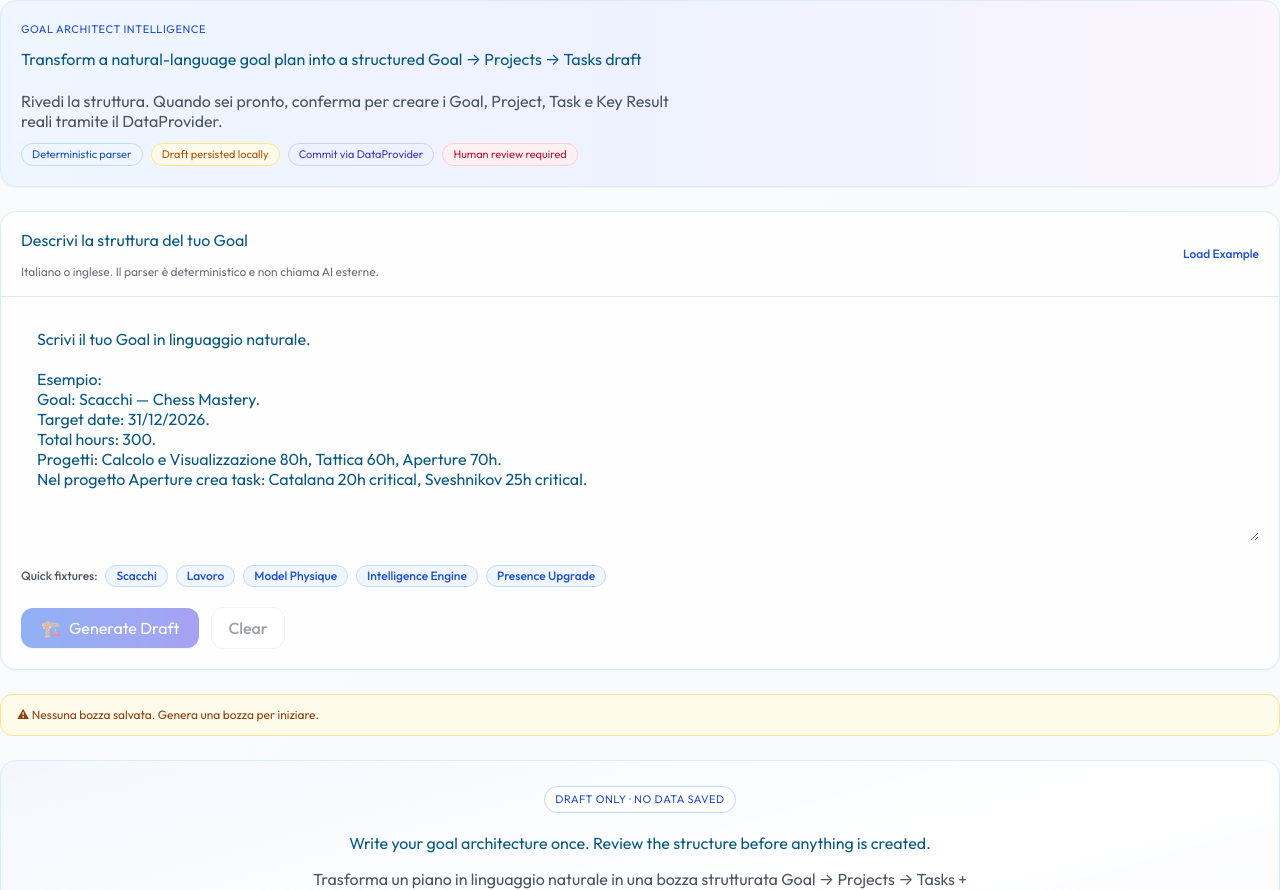
Test: GoalArchitectView — smoke › does not crash on random text
Replace the text in the text box with test id "goal-architect-textarea" with "asdf qwer zxcv 1234 !!! ???". click: (640, 429)
box: 21,317 -> 1259,541
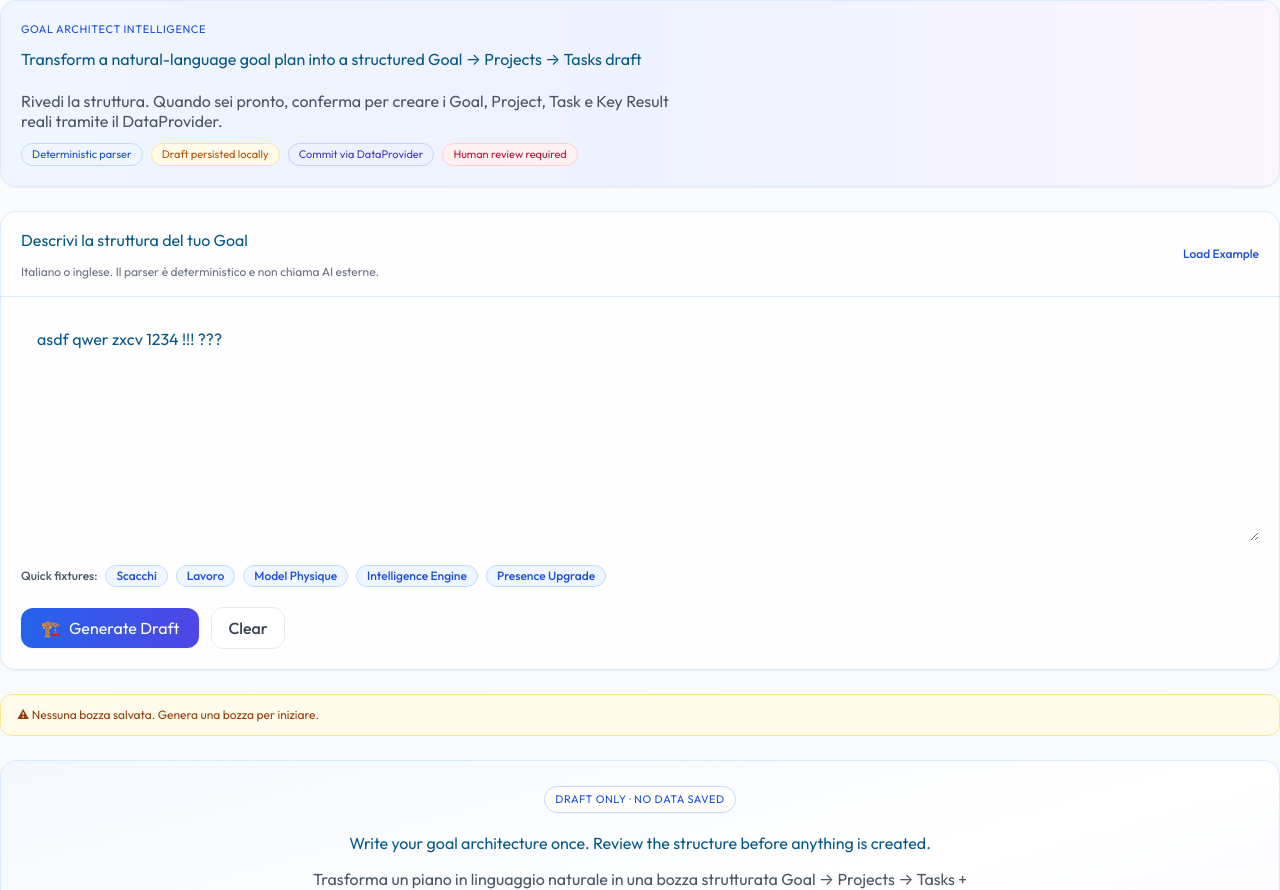
Click the button with test id "goal-architect-generate". click: (110, 628)
box: 21,608 -> 199,648
(page scrolled)
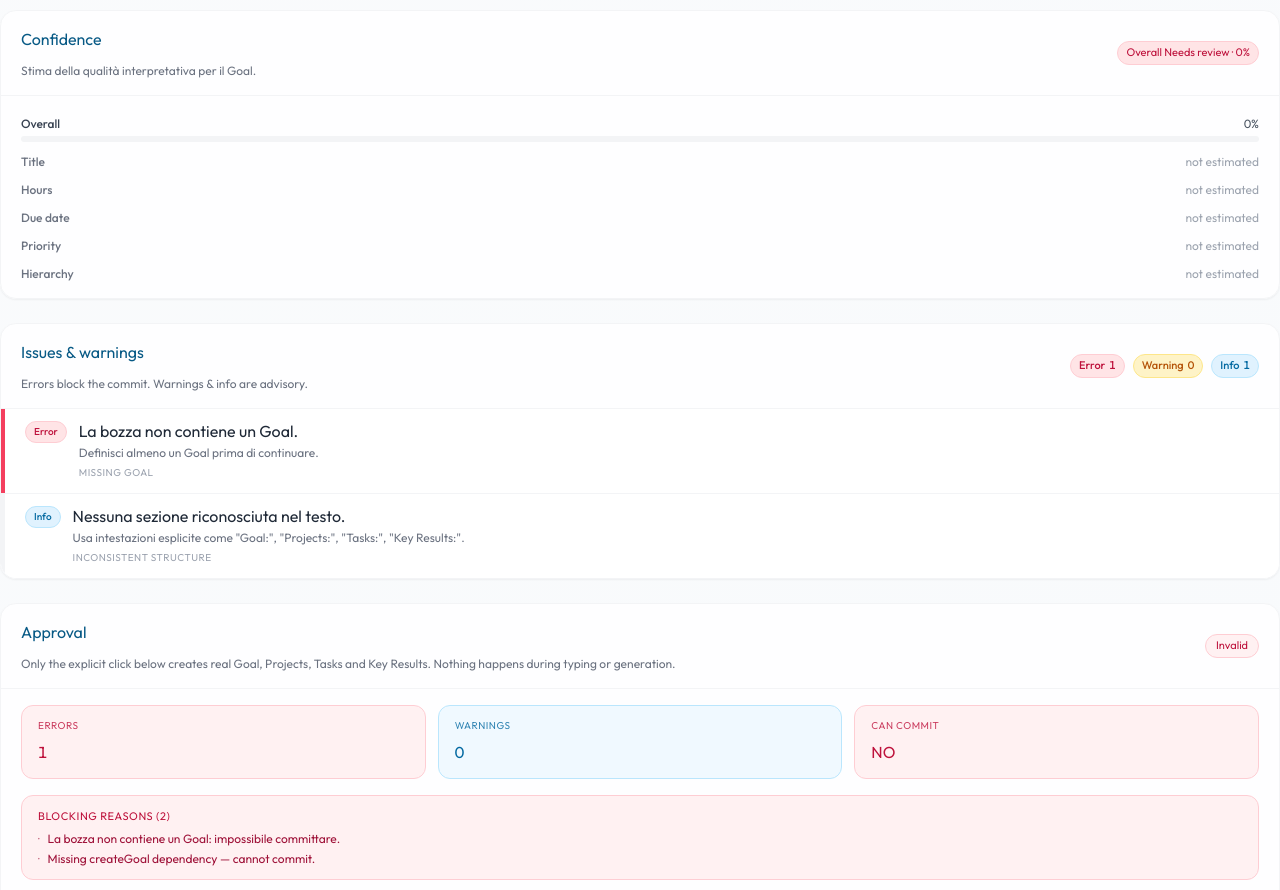
Check: the element with test id "goal-architect-issues" is shown, box 0,323 -> 1279,579
